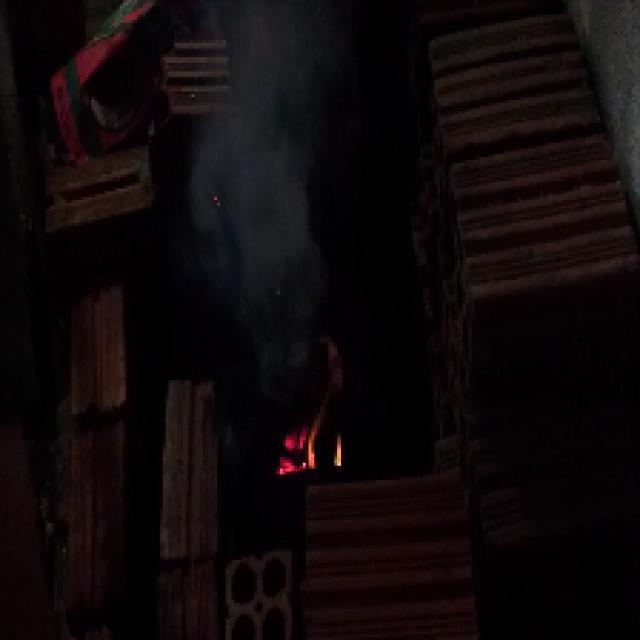Fire: (245, 265, 355, 576)
